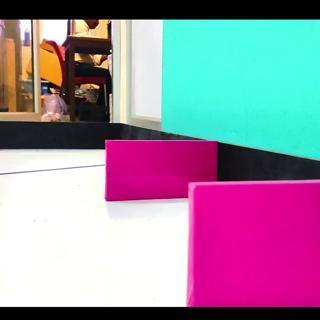xparking: (190, 188, 310, 304), (108, 140, 186, 197)
